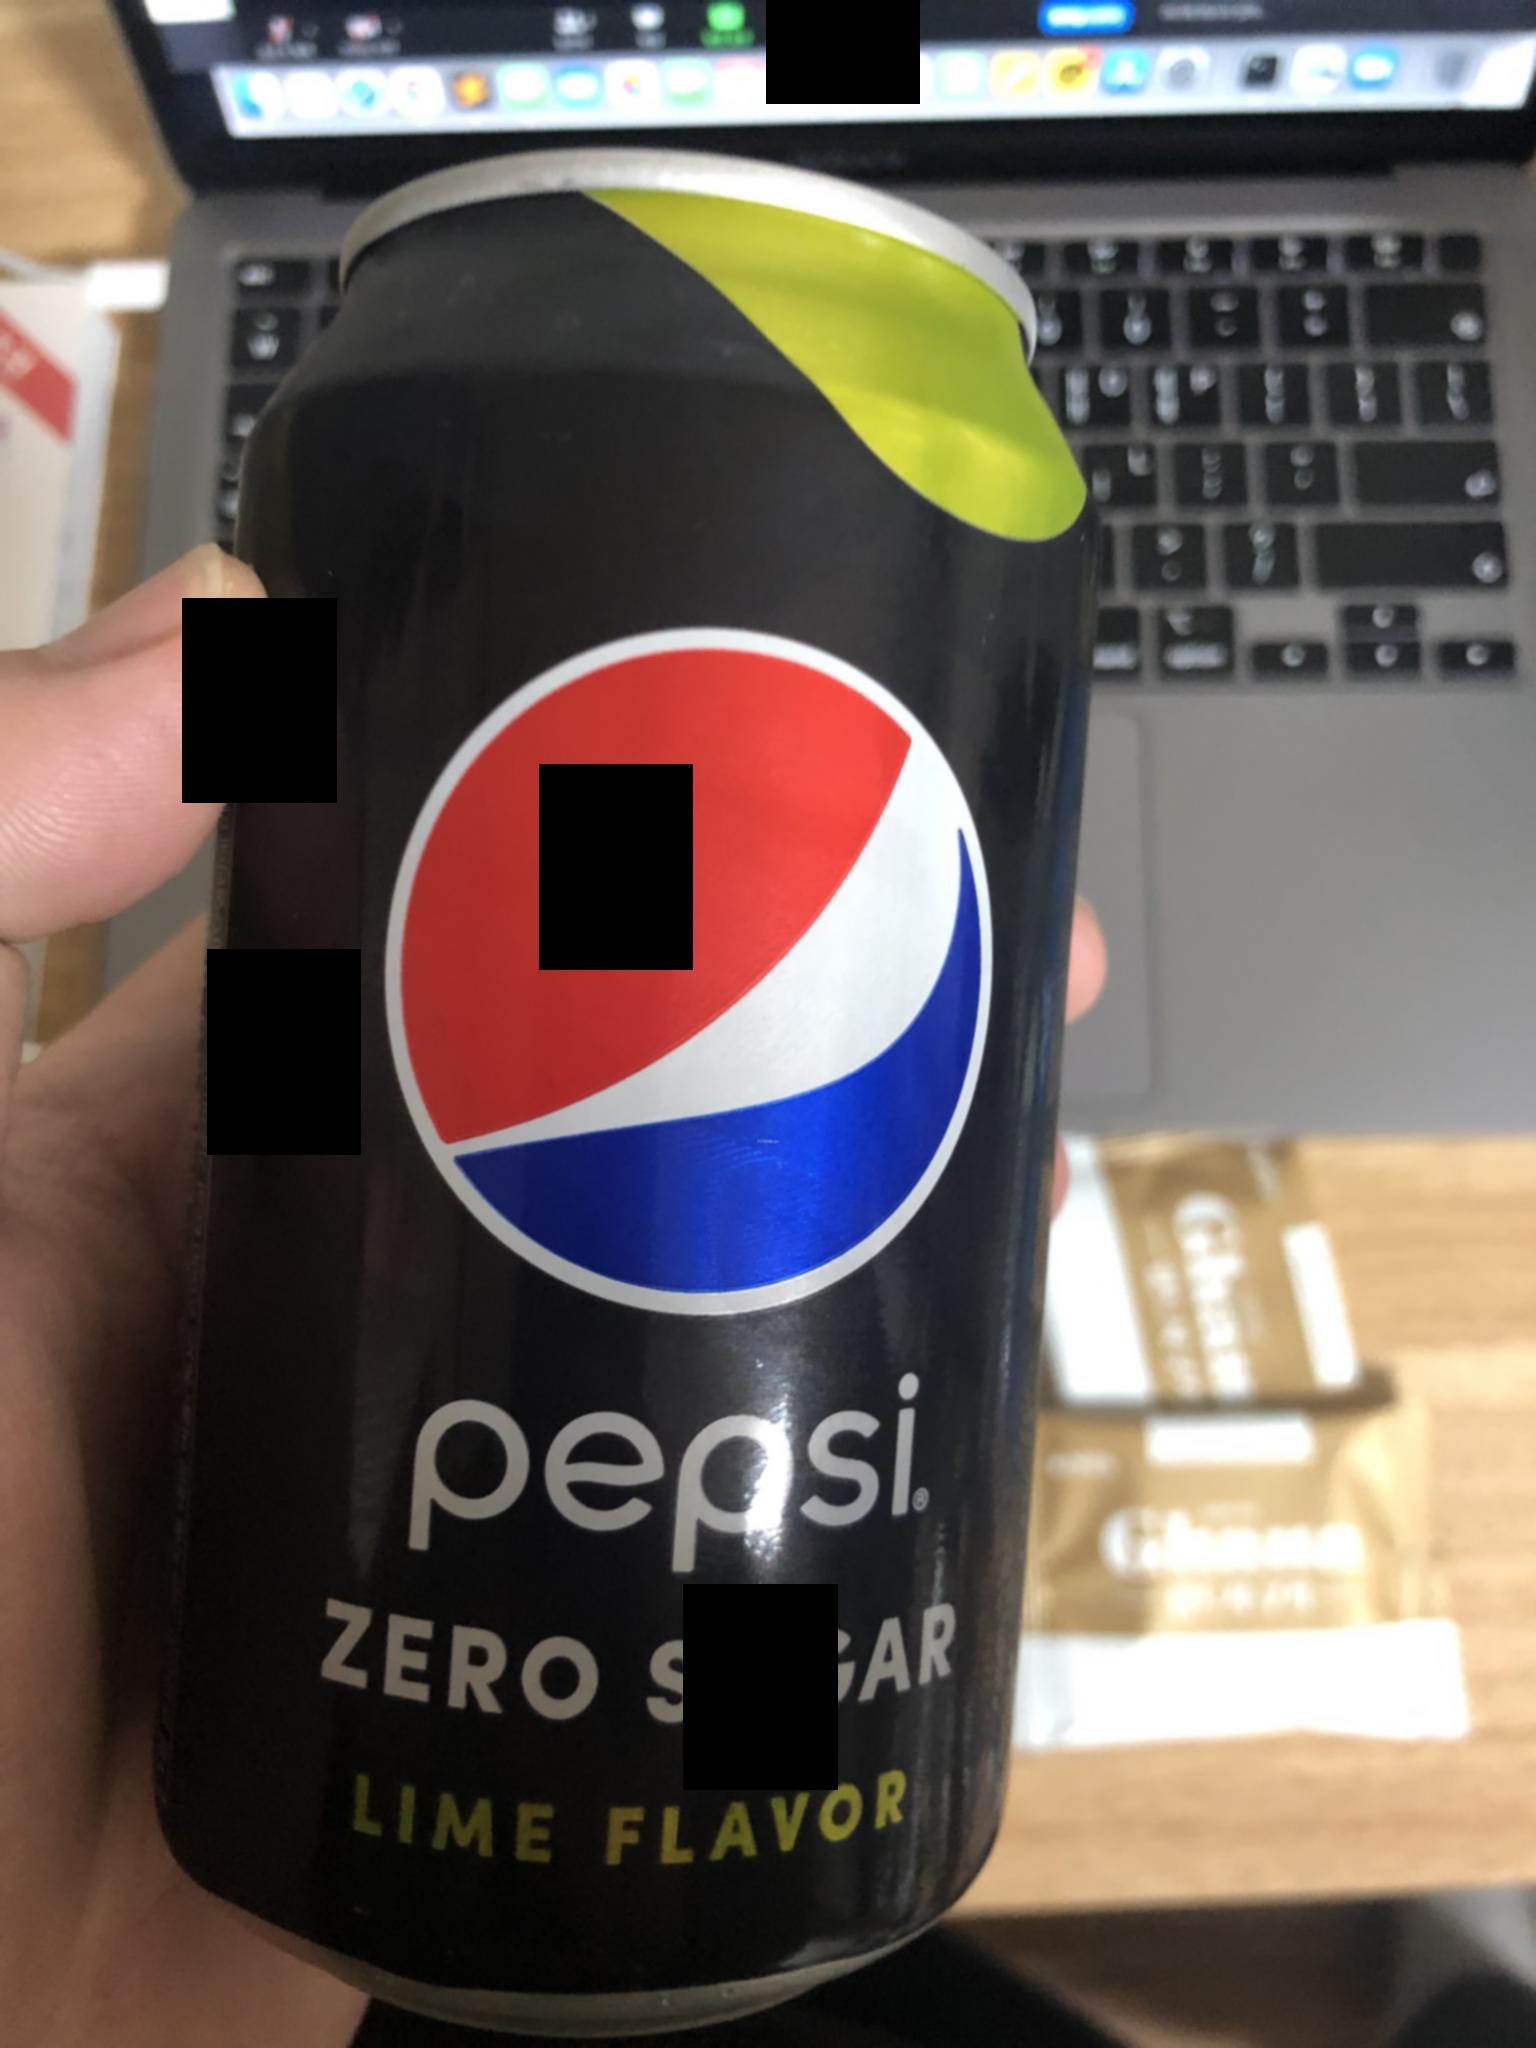pepsi_zero: (108, 153, 1121, 2024)
